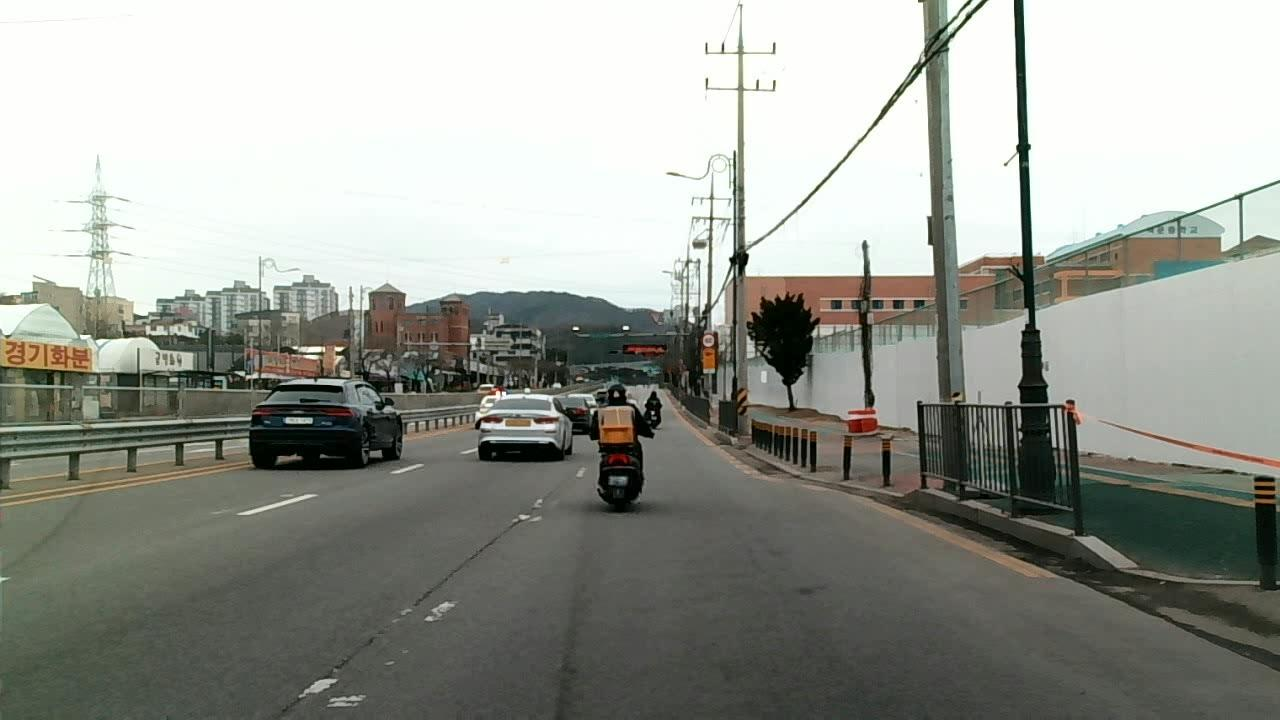banner: (261, 635, 387, 719), (414, 521, 515, 606)
